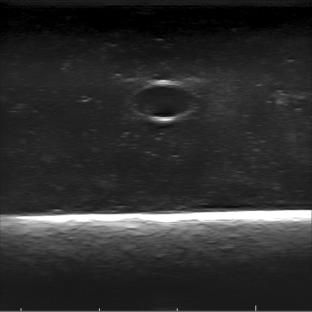vessel: (132, 79, 198, 122)
